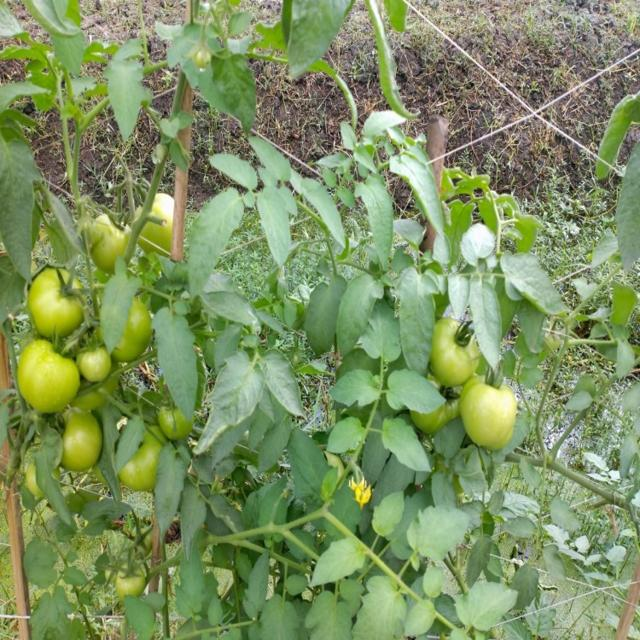tomato: (21, 336, 81, 414), (461, 377, 516, 458), (31, 266, 87, 333), (136, 195, 185, 260), (431, 319, 479, 383), (57, 408, 103, 471), (106, 306, 153, 362), (123, 435, 169, 491), (92, 213, 133, 270), (413, 389, 462, 436), (158, 401, 205, 443), (115, 562, 147, 597), (81, 347, 108, 382), (195, 51, 213, 69)
